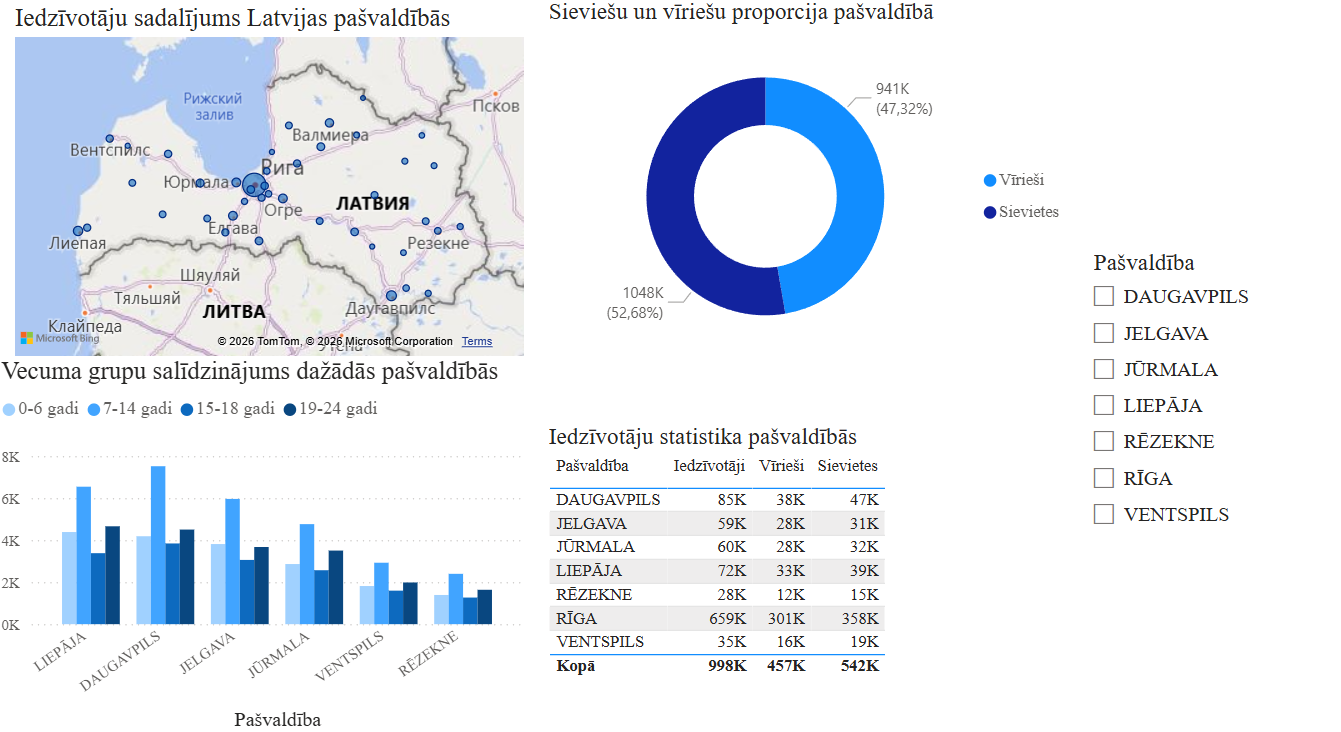

The page's visual inventory and layout, read from the dashboard file:
{"tool":"powerbi","page":{"name":"Page 1","canvas":[1280,720],"ordinal":0},"visuals":[{"type":"map","title":"Iedzīvotāju sadalījums Latvijas pašvaldībās","fields":{"Size":["Sum(2026_01_pmlp_iedzivotaju_skaits.Iedzīvotāju skaits)"],"Category":["2026_01_pmlp_iedzivotaju_skaits.Pašvaldība"]},"box":[10.9,4.5,417.3,287.3],"z":0},{"type":"clusteredColumnChart","title":"Vecuma grupu salīdzinājums dažādās pašvaldībās","fields":{"Category":["2026_01_pmlp_iedzivotaju_skaits.Pašvaldība"],"Y":["Sum(2026_01_pmlp_iedzivotaju_skaits.Vecums 0-6)","Sum(2026_01_pmlp_iedzivotaju_skaits.Vecums 7-14)","Sum(2026_01_pmlp_iedzivotaju_skaits.Vecums 15-18)","Sum(2026_01_pmlp_iedzivotaju_skaits.Vecums 19-24)"]},"box":[0,287,428,304],"z":1000},{"type":"donutChart","title":"Sieviešu un vīriešu proporcija pašvaldībā","fields":{"Y":["Sum(2026_01_pmlp_iedzivotaju_skaits.Vīriešu skaits)","Sum(2026_01_pmlp_iedzivotaju_skaits.Sieviešu skaits)"]},"box":[438,0,428,297],"z":2000},{"type":"tableEx","title":"Iedzīvotāju statistika pašvaldībās","fields":{"Values":["2026_01_pmlp_iedzivotaju_skaits.Pašvaldība","Sum(2026_01_pmlp_iedzivotaju_skaits.Iedzīvotāju skaits)","Sum(2026_01_pmlp_iedzivotaju_skaits.Vīriešu skaits)","Sum(2026_01_pmlp_iedzivotaju_skaits.Sieviešu skaits)"]},"box":[437.8,340,470,327.8],"z":3000},{"type":"slicer","fields":{"Values":["2026_01_pmlp_iedzivotaju_skaits.Pašvaldība"]},"box":[866,196,175,243],"z":4000}]}

Visuals, with their boxes on the page's 1280x720 design canvas (x1, y1, x2, y2). These are canvas units, not pixel positions in the 1341x732 screenshot, which may show the page scaled, cropped or inside an application window:
"Iedzīvotāju sadalījums Latvijas pašvaldībās" map: region(11, 4, 428, 292)
"Vecuma grupu salīdzinājums dažādās pašvaldībās" clusteredColumnChart: region(0, 287, 428, 591)
"Sieviešu un vīriešu proporcija pašvaldībā" donutChart: region(438, 0, 866, 297)
"Iedzīvotāju statistika pašvaldībās" tableEx: region(438, 340, 908, 668)
slicer - 2026_01_pmlp_iedzivotaju_skaits.Pašvaldība: region(866, 196, 1041, 439)
